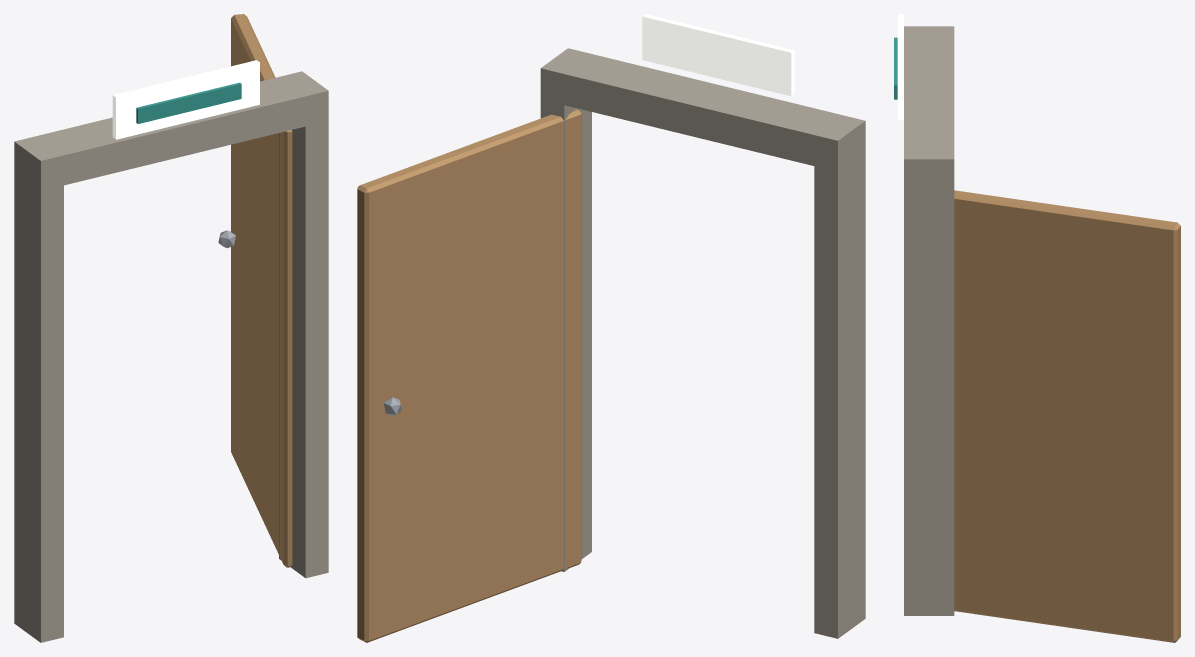
The model's file is door.glb.
3 renders of one model, left to right at view 1: azimuth 30°, elevation 25°; view 2: azimuth 150°, elevation 25°; view 3: azimuth 270°, elevation 25°, orthographic. The views are drawn at different scales.
Visible parts, largest first — view 1: door_frame, door_leaf; view 2: door_leaf, door_frame; view 3: door_leaf, door_frame.
Part boxes in pixels (<box>): door_frame: <box>14,60,328,642</box>; door_leaf: <box>218,14,292,567</box>; door_leaf: <box>357,109,581,642</box>; door_frame: <box>540,14,865,638</box>; door_leaf: <box>954,190,1180,642</box>; door_frame: <box>894,14,954,615</box>.
Size of the model in its own units: 1.21 by 1.76 by 0.9107.
